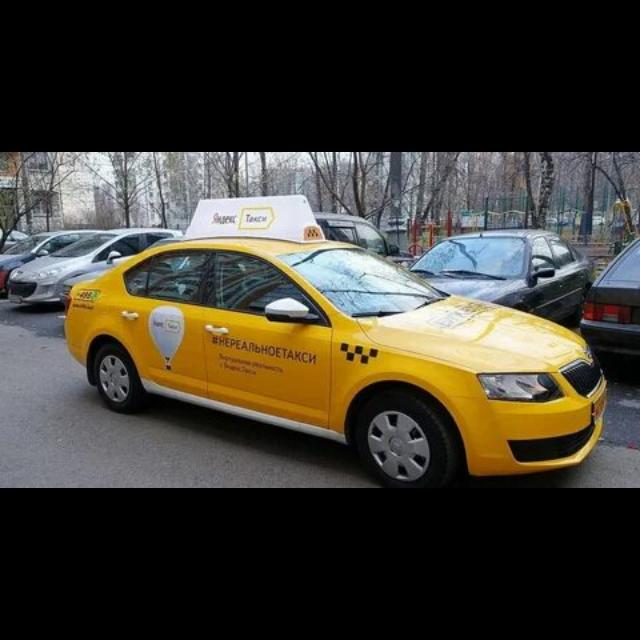taxi: (63, 194, 609, 486)
